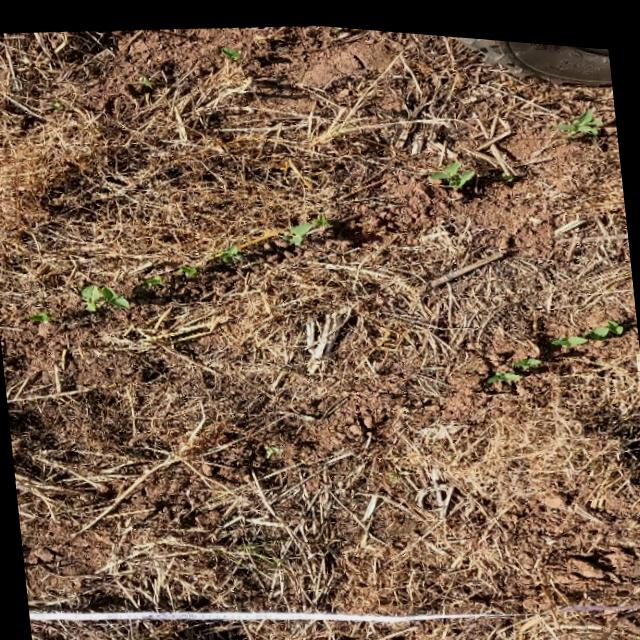soy_plant: (550, 309, 625, 337), (556, 98, 604, 128), (281, 210, 327, 240), (81, 282, 129, 308), (431, 153, 472, 180), (220, 241, 241, 258), (488, 362, 523, 372), (515, 347, 541, 360), (219, 41, 239, 55), (29, 311, 49, 320), (181, 262, 197, 272)
